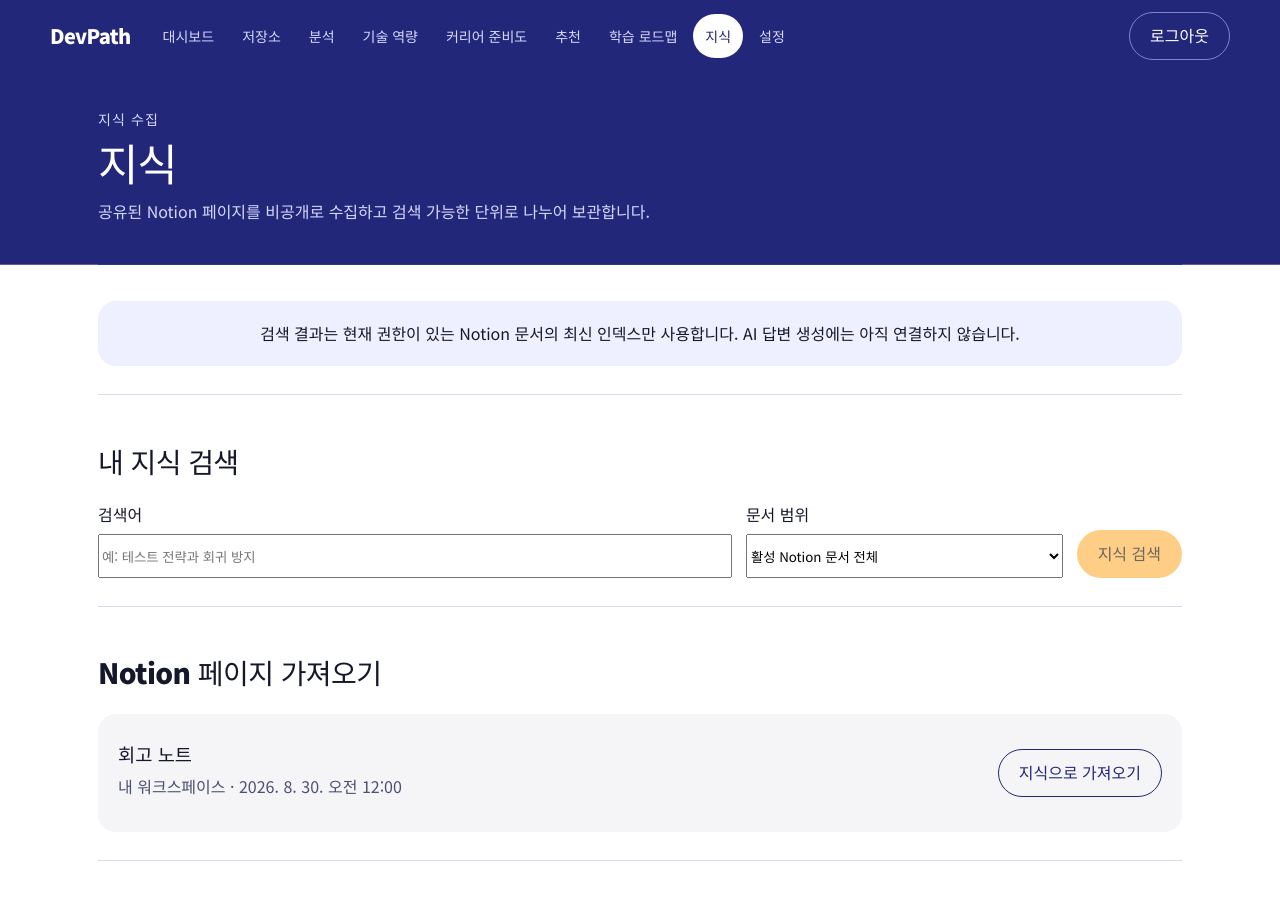
Scenario: connects an authorized Notion page to a recoverable ingestion job
The image size is (1280, 900).
Expected: the heading "지식" is shown, top-left (98, 130), bottom-right (176, 194)
Expected: the heading "회고 노트" is shown, top-left (118, 740), bottom-right (192, 767)
Click the button "지식으로 가져오기". click: click(1080, 773)
box: top-left (998, 749), bottom-right (1162, 797)
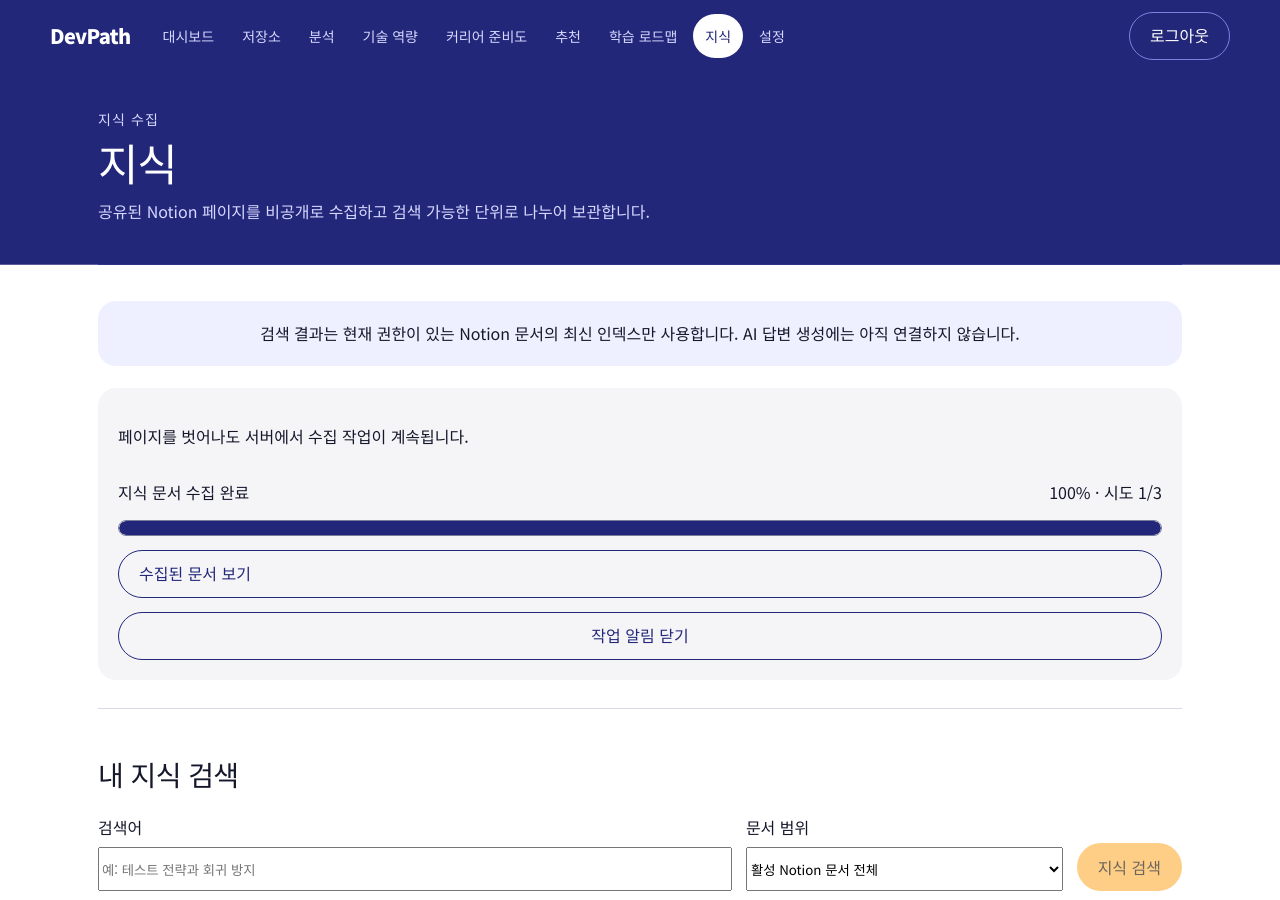
Expected: the text "지식 문서 수집 완료" is shown, top-left (118, 480), bottom-right (249, 506)
